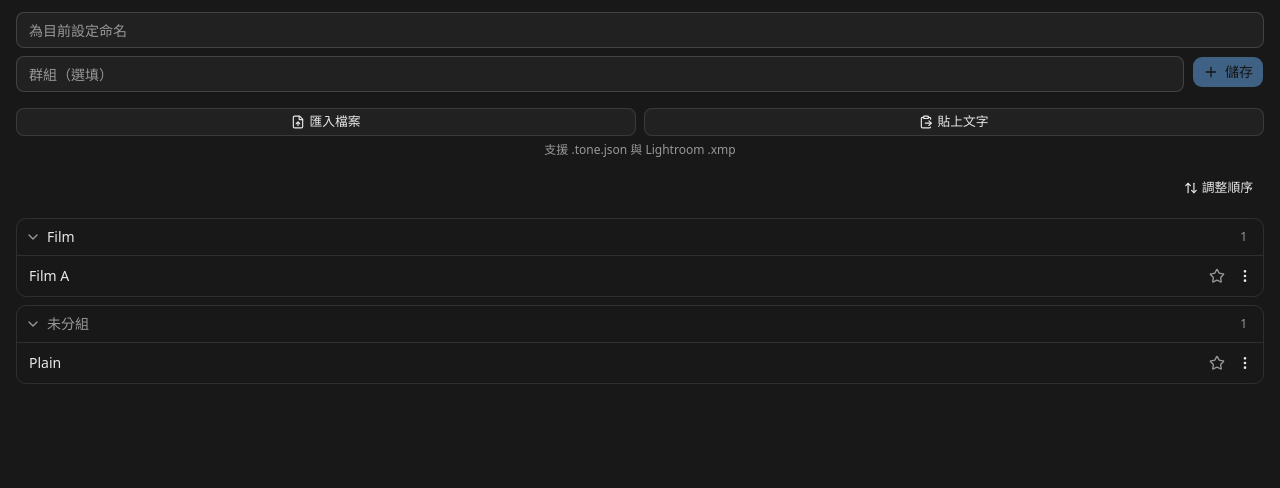
Test case: PresetPanel › shows favorites in their own section at the top
Click the button named "標為常用「Film A」".
click(1217, 276)  # box [1203, 262, 1231, 290]
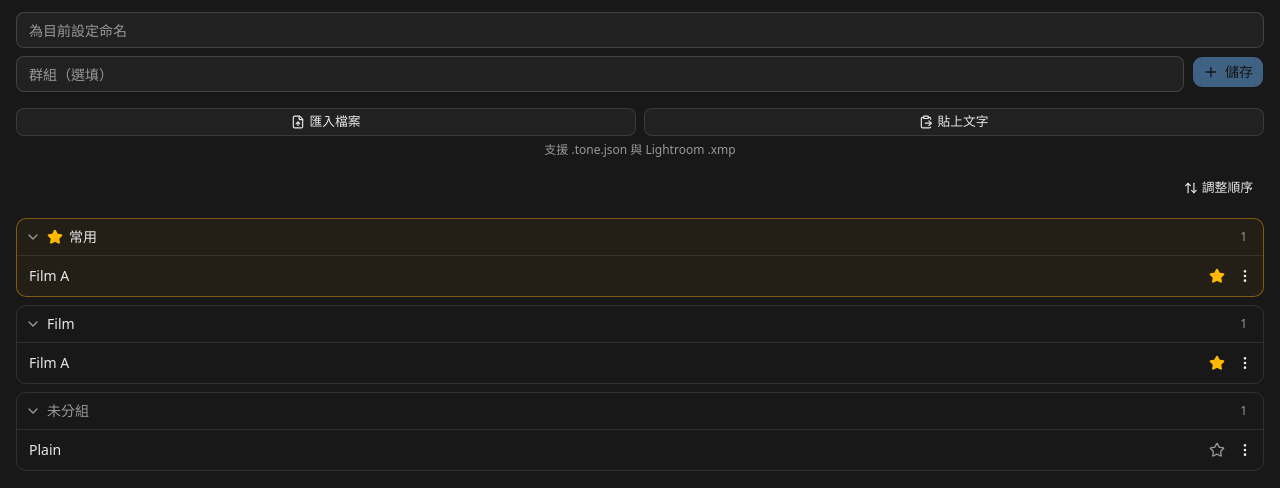
Result: the buttons read "常用1", "Film1", "未分組1", in this order at [17, 219, 1259, 255]; [17, 306, 1259, 342]; [17, 393, 1259, 429]
Result: the number of buttons "Film A" is 2 at [17, 256, 1203, 296]; [17, 343, 1203, 383]
Click the 1st button named "取消常用「Film A」".
click(1217, 276)  # box [1203, 262, 1231, 290]
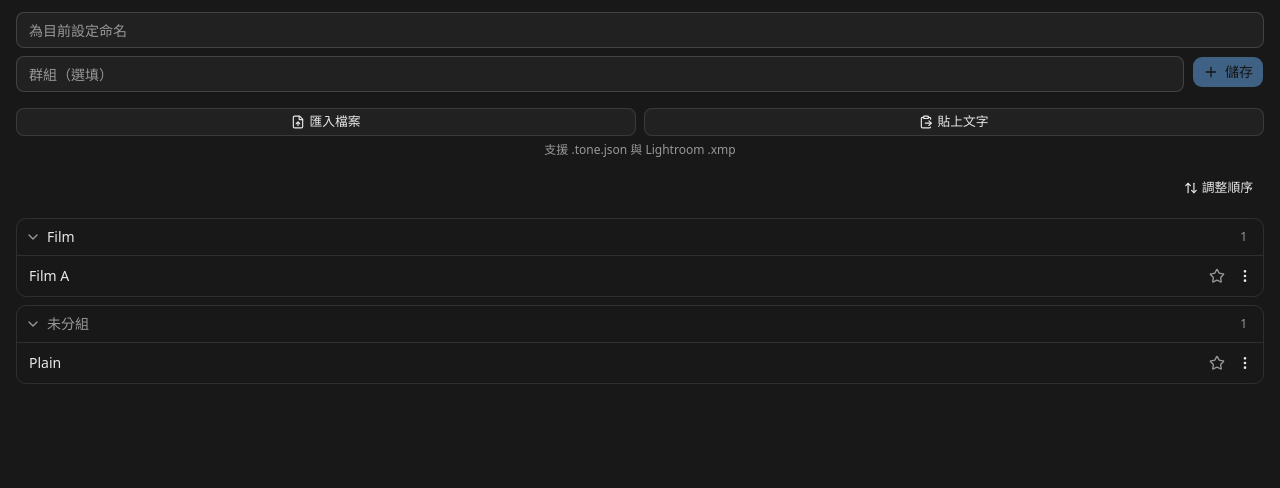
Result: the button "常用" is gone
